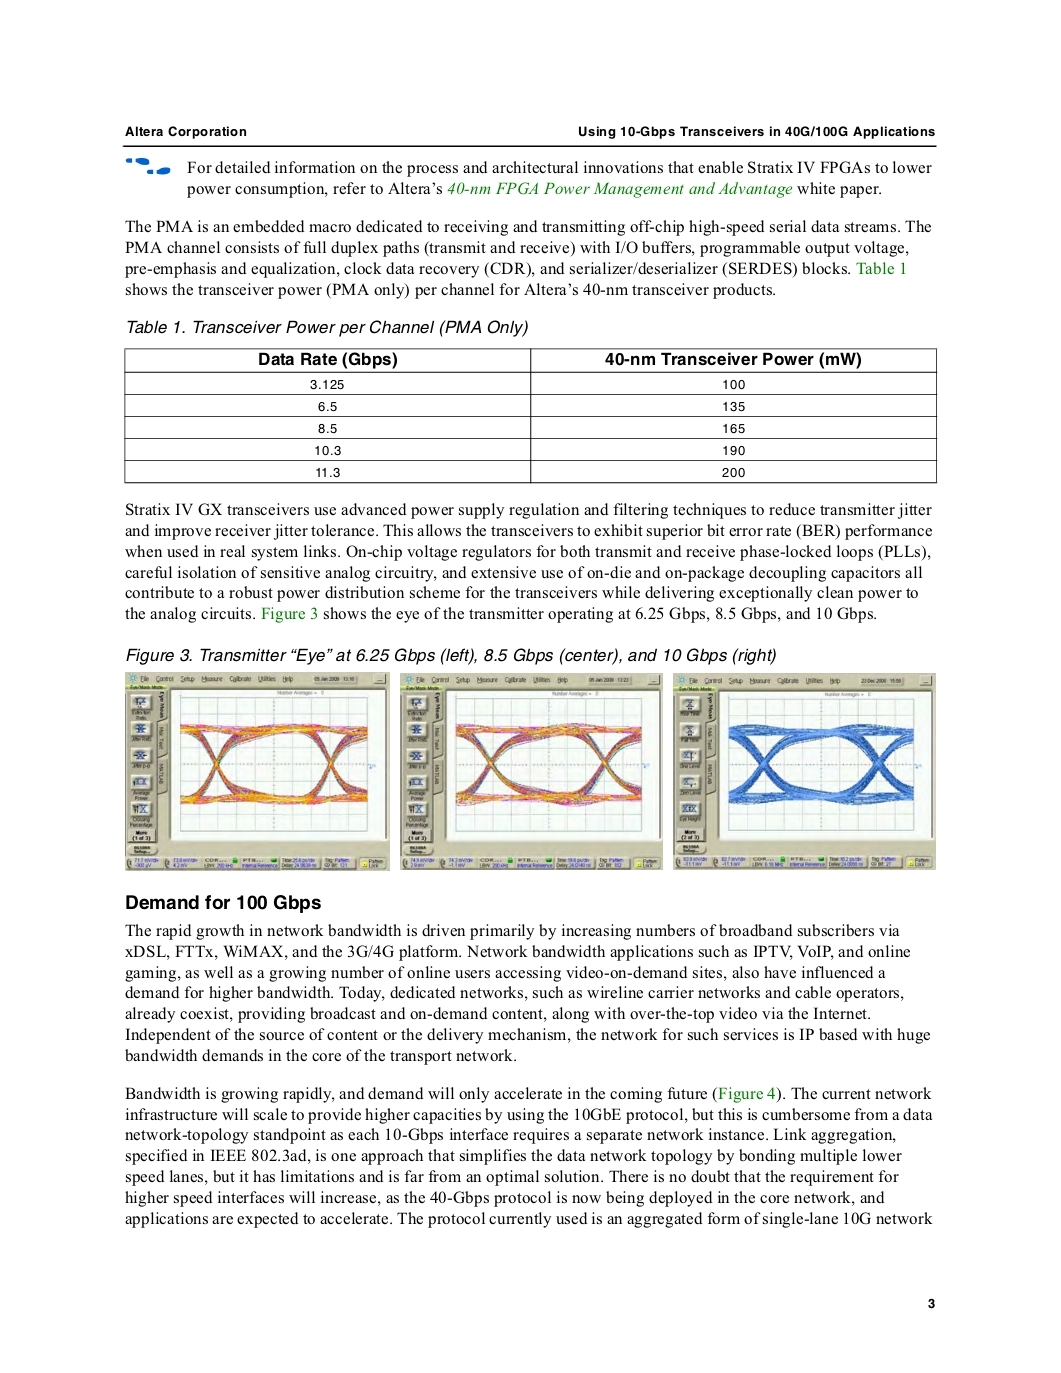Table: (124, 347, 937, 484)
figure: (124, 671, 399, 871), (400, 672, 672, 870), (673, 672, 935, 870)
